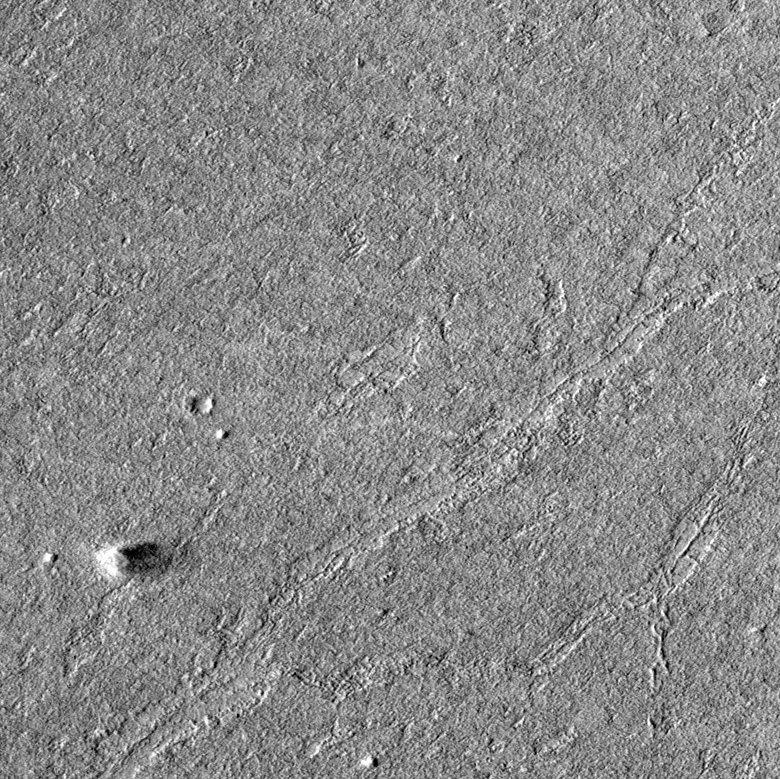dust_devil: (91, 537, 178, 580)
